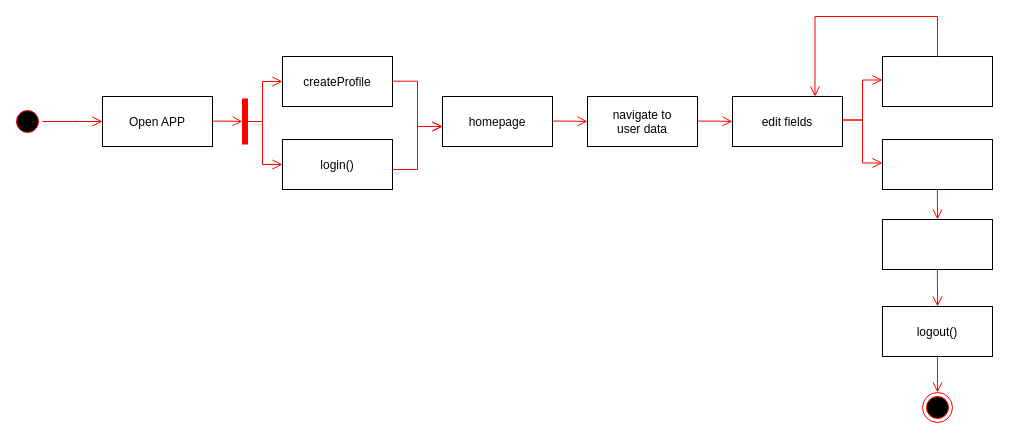
The diagram is 1009 pixels wide and 439 high, and some of its shapes have lost their labels. Each missing label, with the box of its shape:
input bad: (882, 56, 992, 106)
input good: (882, 138, 992, 190)
save: (882, 218, 992, 270)
